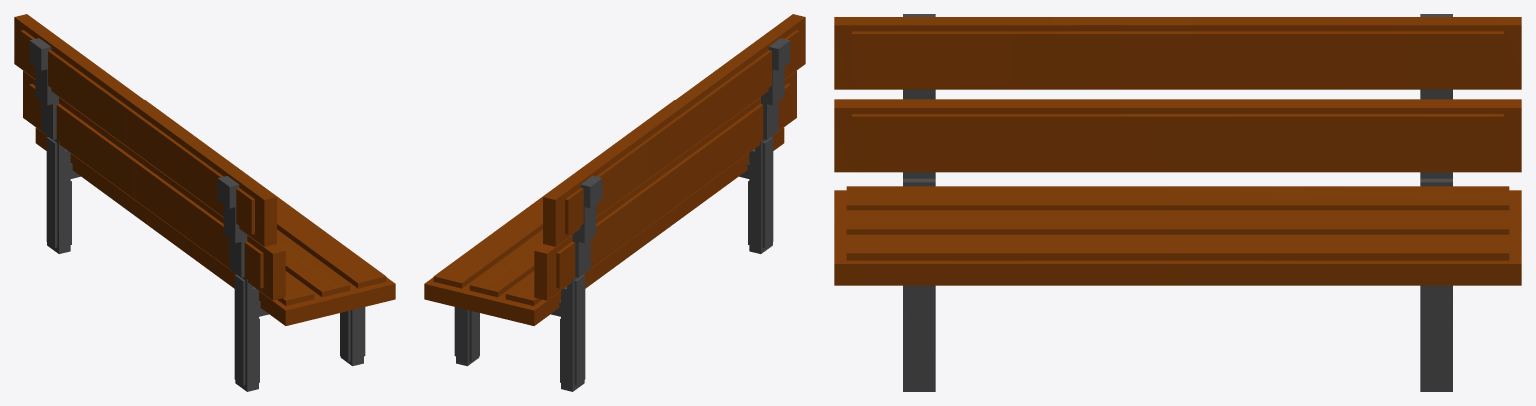
Rendered from bench1.glb.
The picture shows the model from 3 angles, left to right: view 1: azimuth 30°, elevation 25°; view 2: azimuth 150°, elevation 25°; view 3: azimuth 270°, elevation 25°; orthographic projection. The views are drawn at different scales.
Visible parts, largest first — view 1: geometry_0; view 2: geometry_0; view 3: geometry_0.
Boxes of the visible parts, left/top/right/bottom form: geometry_0: left=14, top=14, right=395, bottom=391; geometry_0: left=424, top=14, right=805, bottom=391; geometry_0: left=834, top=14, right=1521, bottom=391.
Bounding box in the file's own units: 1.63 × 2.34 × 5.
Materials: 1 (1 with a texture image).
